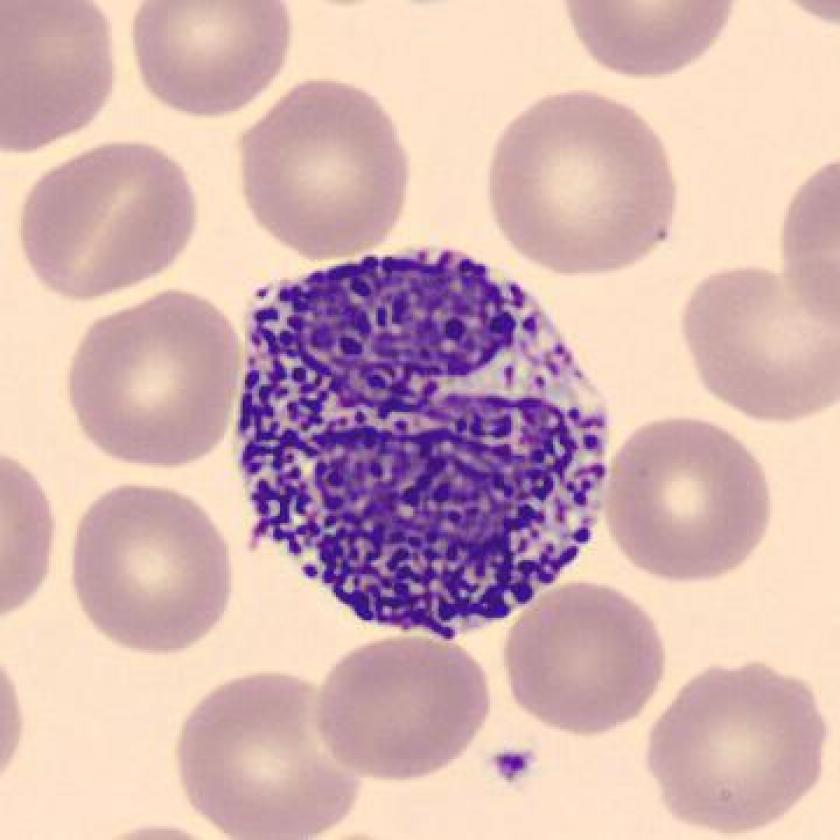basophil: (227, 235, 615, 640)
